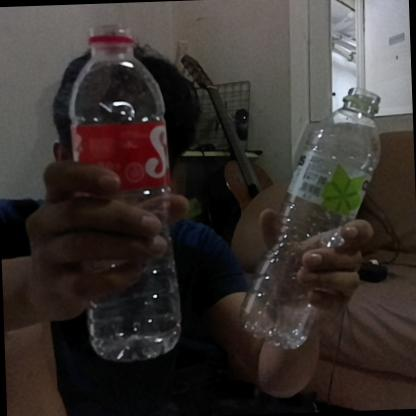plastic_bottles: (62, 25, 184, 364), (235, 86, 392, 340)
